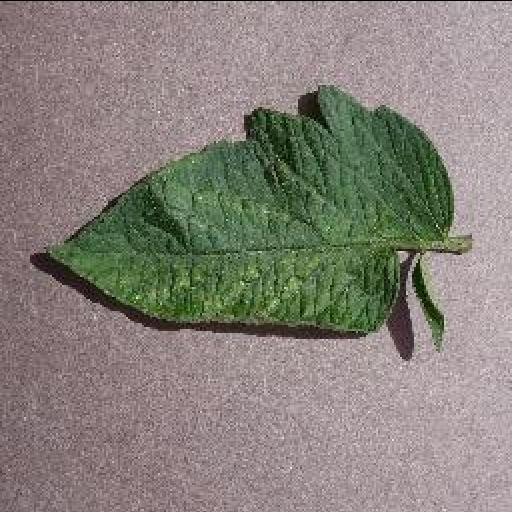disease_tomato: (46, 86, 454, 336)
